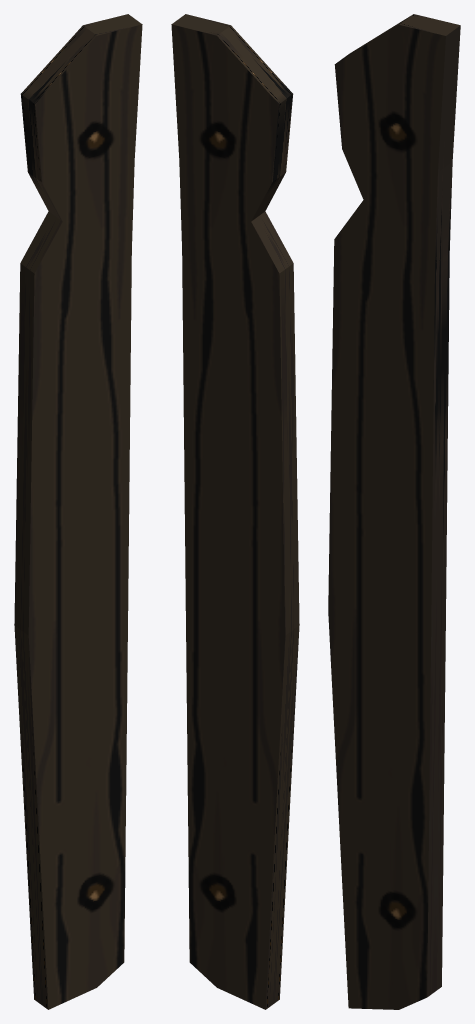
Rendered from ThanhGoC.fbx.
The picture shows the model from 3 angles, left to right: view 1: azimuth 30°, elevation 25°; view 2: azimuth 150°, elevation 25°; view 3: azimuth 330°, elevation 25°; orthographic projection. The views are drawn at different scales.
Parts seen in each view (by area): view 1: ThanhGoC; view 2: ThanhGoC; view 3: ThanhGoC.
Boxes of the visible parts, <box> form: ThanhGoC: <box>14,14,142,1009</box>; ThanhGoC: <box>171,14,299,1009</box>; ThanhGoC: <box>328,14,460,1009</box>.
Size of the model in its own units: 0.0676 by 0.3124 by 2.52.
Materials: 1 (1 with a texture image).
